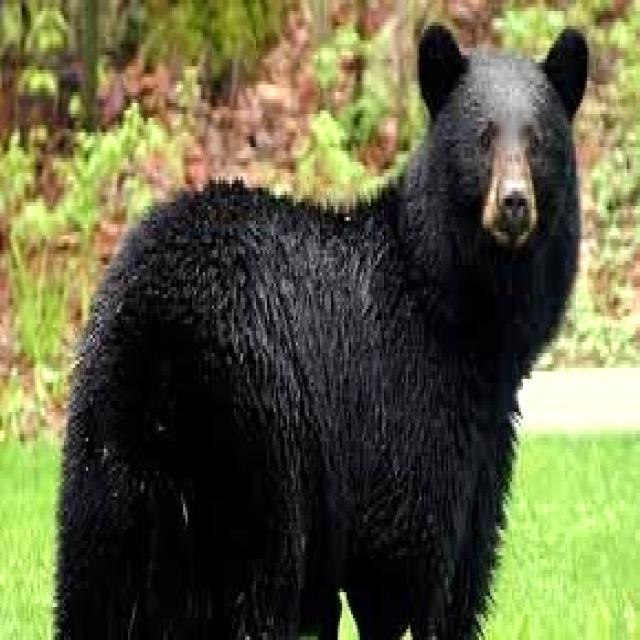bear: (48, 8, 566, 640)
